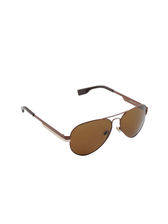glasses: (18, 81, 152, 158)
